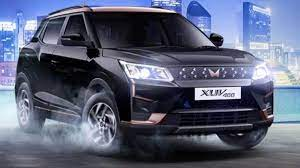XUV 400: (14, 4, 275, 159)
